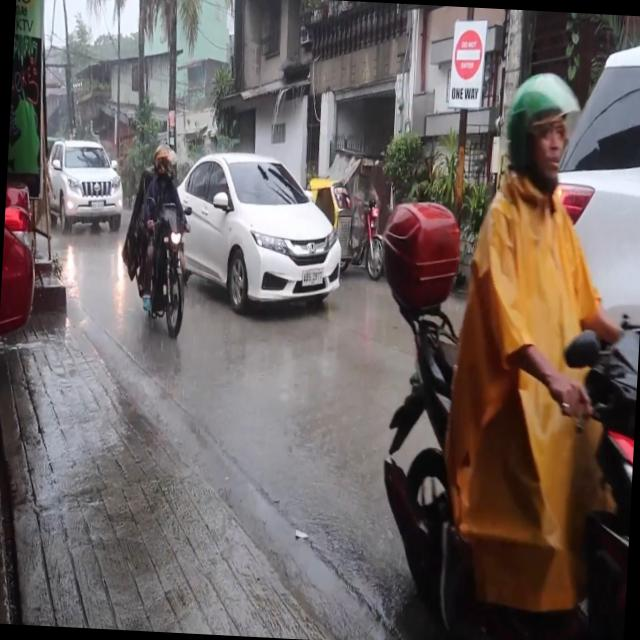full: (154, 144, 178, 186)
